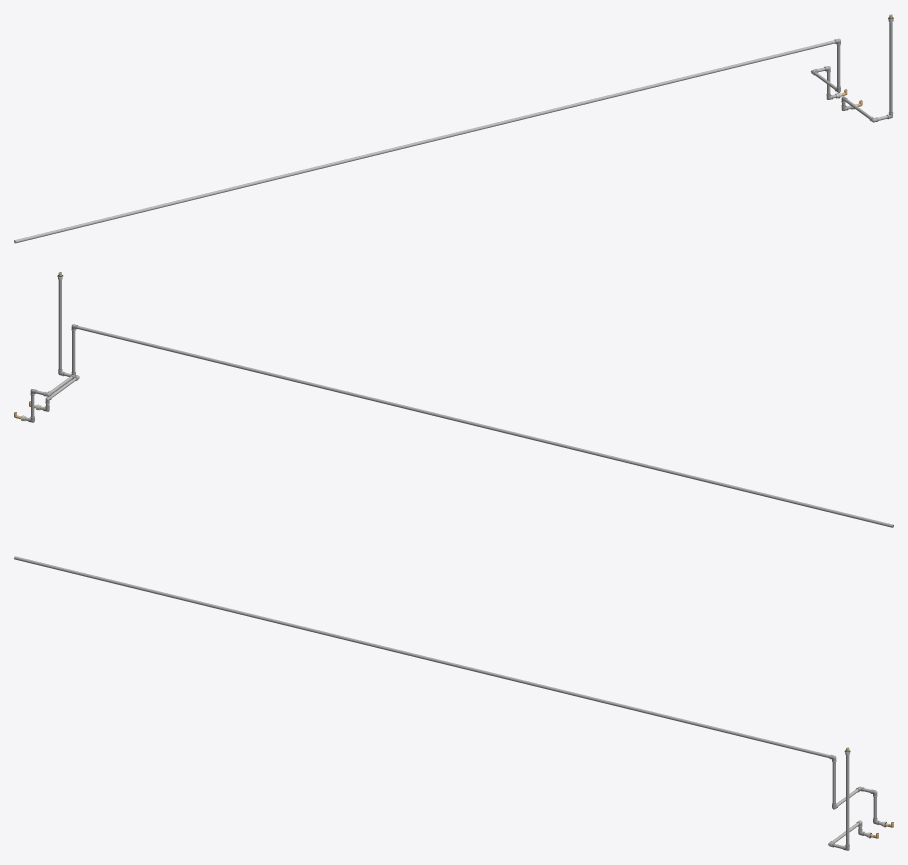
The model's file is pipes_supply__softener-yes_and_plumbing-galvanized.glb.
3 renders of one model, top to bottom at view 1: azimuth 30°, elevation 25°; view 2: azimuth 150°, elevation 25°; view 3: azimuth 330°, elevation 25°, orthographic.
Parts seen in each view (by area): view 1: pipe_supply_from_softener__galvanized, pipe_supply_softener_feed__galvanized; view 2: pipe_supply_from_softener__galvanized, pipe_supply_softener_feed__galvanized; view 3: pipe_supply_from_softener__galvanized.
Boxes of the visible parts, bbox=[...] form: pipe_supply_from_softener__galvanized: bbox=[14, 40, 840, 243]; pipe_supply_softener_feed__galvanized: bbox=[842, 22, 892, 120]; pipe_supply_from_softener__galvanized: bbox=[24, 326, 893, 527]; pipe_supply_softener_feed__galvanized: bbox=[39, 279, 76, 409]; pipe_supply_from_softener__galvanized: bbox=[14, 556, 881, 824].
Bounding box in the file's own units: 7.92 × 1 × 0.7677.
